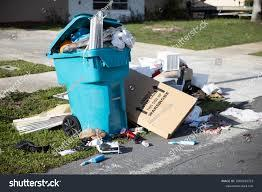trash: (119, 53, 237, 142), (8, 107, 74, 157), (62, 8, 132, 55), (59, 123, 129, 169)
trash_can_overflow: (34, 2, 216, 164)
